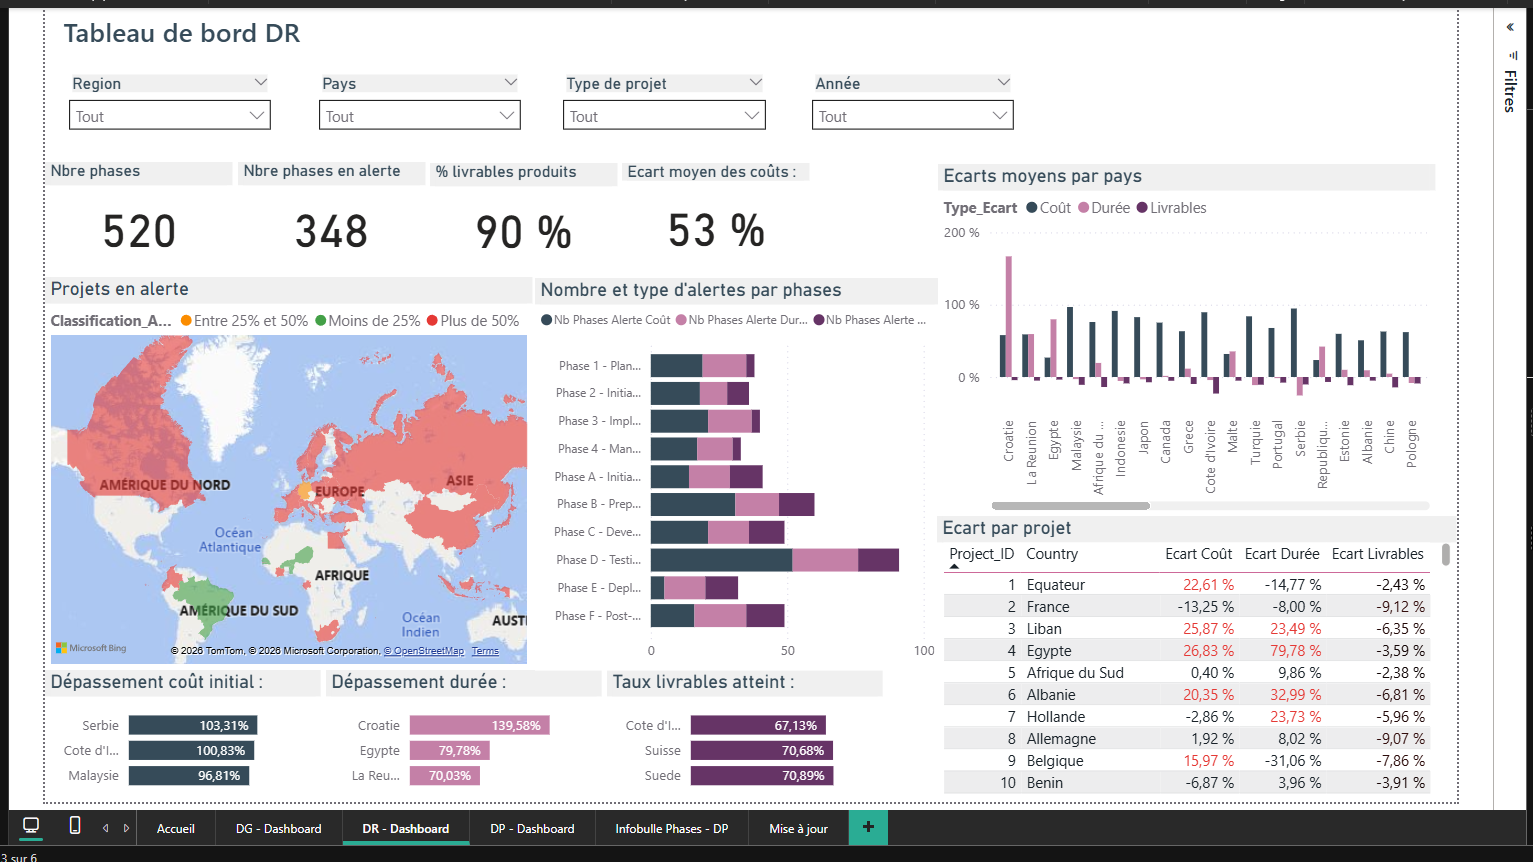

This screenshot's page, from the dashboard's own definition file:
{"tool":"powerbi","page":{"name":"DR - Dashboard","canvas":[1280,720],"ordinal":2},"visuals":[{"type":"slicer","fields":{"Values":["Country_Profiles.Region"]},"box":[11.8,55.3,203.1,75.3],"z":0},{"type":"textbox","box":[11.8,0,375.4,45.3],"z":1000},{"type":"slicer","fields":{"Values":["Project type.Project_Type"]},"box":[459.7,55.3,204,75.3],"z":2000},{"type":"slicer","fields":{"Values":["Country_Profiles.Country"]},"box":[238.5,55.3,203.1,75.3],"z":3000},{"type":"slicer","fields":{"Values":["Projects_plans.Période_Mois_Année"]},"box":[685.5,55.3,203.1,75.3],"z":4000},{"type":"filledMap","title":"Projets en alerte","fields":{"Category":["Synthese_Pays.Country"],"Series":["Synthese_Pays.Classification_Alerte_Pays"]},"box":[0,244.1,441.6,356],"z":6000},{"type":"card","title":"Ecart moyen des coûts :","fields":{"Values":["Avg(Actual_Costs.Ecart_Cost)"]},"box":[523.2,140.6,169.6,100.7],"z":7000},{"type":"card","title":"Nbre phases en alerte","fields":{"Values":["Projects_plans.Nb_Phases_En_Alerte"]},"box":[175,139.6,169.6,99.7],"z":8000},{"type":"card","title":"% livrables produits","fields":{"Values":["Actual_Delivrable.%_Livrables_Produits"]},"box":[349.1,140.6,169.6,99.7],"z":9000},{"type":"clusteredBarChart","title":"Dépassement coût initial :","fields":{"Y":["Actual_Costs.Ecart_Cout_Moyen_Pays"],"Category":["Projects_Locations.Country"]},"box":[0,600.3,250.3,119.7],"z":10000},{"type":"clusteredBarChart","title":"Dépassement durée :","fields":{"Y":["Actual_Duration.Ecart_Duree_Moyen_Pays"],"Category":["Projects_Locations.Country"]},"box":[254.8,600.3,250.3,119.7],"z":11000},{"type":"clusteredBarChart","title":"Taux livrables atteint :","fields":{"Category":["Projects_Locations.Country"],"Y":["Actual_Delivrable.Taux_Livrables_Pays"]},"box":[509.6,600.3,250.3,119.7],"z":12000},{"type":"barChart","title":"Nombre et type d''alertes par phases","fields":{"Category":["Projects_plans.Phase"],"Y":["Mesures_DP.Nb Phases Alerte Coût","Mesures_DP.Nb Phases Alerte Durée","Mesures_DP.Nb Phases Alerte Livrables"]},"box":[444,244.6,367.4,355.6],"z":13000},{"type":"tableEx","title":"Ecart par projet","fields":{"Values":["Synthese_Projets.Project_ID","Synthese_Projets.Country","Sum(Synthese_Projets.Ecart_Cout_Moyen)","Sum(Synthese_Projets.Ecart_Duree_Moyen)","Sum(Synthese_Projets.Ecart_Livrables_Moyen)"]},"box":[809.2,461,470.8,258.7],"z":14000},{"type":"clusteredColumnChart","title":"Ecarts moyens par pays","fields":{"Series":["Table_Ecarts_Pays.Type_Ecart"],"Y":["Sum(Table_Ecarts_Pays.Valeur_Ecart)"],"Category":["Table_Ecarts_Pays.Country"]},"box":[809.5,141.5,450.9,319.3],"z":15000},{"type":"card","title":"Nbre phases","fields":{"Values":["CountNonNull(Projects_plans.Phase)"]},"box":[0,139.6,169.6,99.7],"z":16000}]}

Visuals, with their boxes on the page's 1280x720 design canvas (x1, y1, x2, y2). These are canvas units, not pixel positions in the 1533x862 screenshot, which may show the page scaled, cropped or inside an application window:
slicer - Country_Profiles.Region: l=12, t=55, r=215, b=131
textbox: l=12, t=0, r=387, b=45
slicer - Project type.Project_Type: l=460, t=55, r=664, b=131
slicer - Country_Profiles.Country: l=238, t=55, r=442, b=131
slicer - Projects_plans.Période_Mois_Année: l=686, t=55, r=889, b=131
"Projets en alerte" filledMap: l=0, t=244, r=442, b=600
"Ecart moyen des coûts :" card: l=523, t=141, r=693, b=241
"Nbre phases en alerte" card: l=175, t=140, r=345, b=239
"% livrables produits" card: l=349, t=141, r=519, b=240
"Dépassement coût initial :" clusteredBarChart: l=0, t=600, r=250, b=720
"Dépassement durée :" clusteredBarChart: l=255, t=600, r=505, b=720
"Taux livrables atteint :" clusteredBarChart: l=510, t=600, r=760, b=720
"Nombre et type d''alertes par phases" barChart: l=444, t=245, r=811, b=600
"Ecart par projet" tableEx: l=809, t=461, r=1280, b=720
"Ecarts moyens par pays" clusteredColumnChart: l=810, t=142, r=1260, b=461
"Nbre phases" card: l=0, t=140, r=170, b=239
